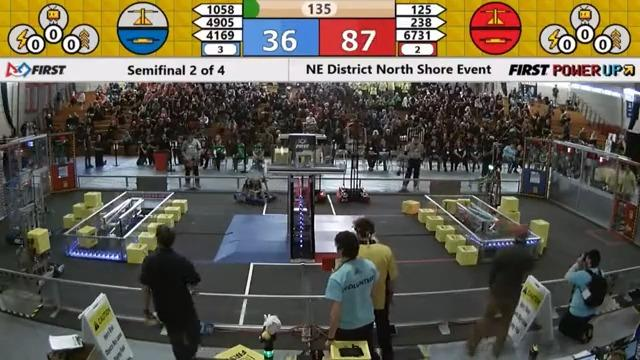robot: (3, 203, 67, 289), (5, 168, 49, 247), (464, 160, 508, 219), (232, 152, 279, 207), (333, 136, 371, 203), (289, 148, 329, 204)
